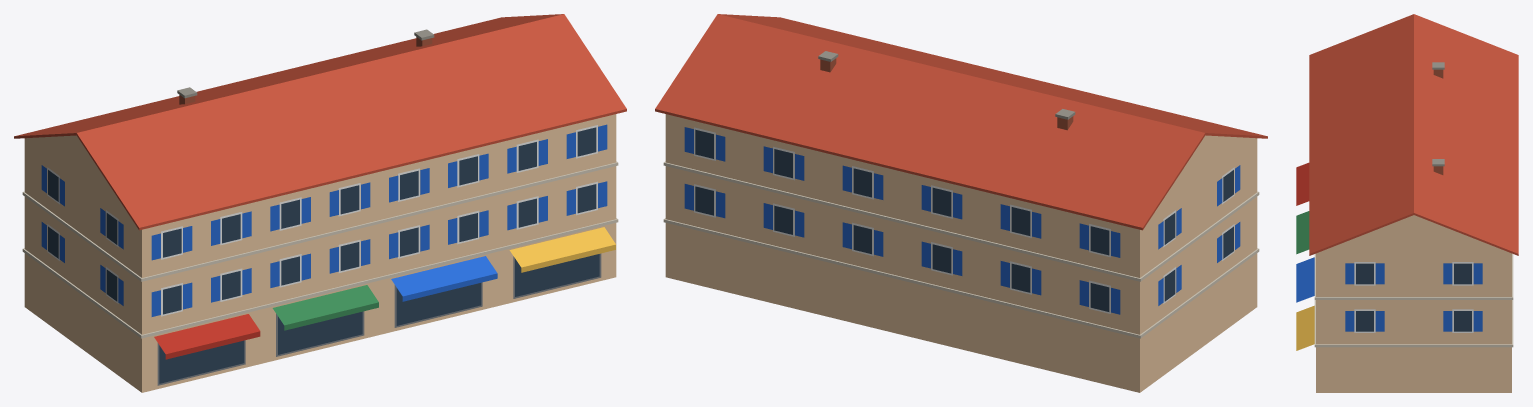
Rendered from boutiques_rue.glb.
3 views of the same model, side by side, from view 1: azimuth 30°, elevation 25°; view 2: azimuth 150°, elevation 25°; view 3: azimuth 270°, elevation 25° (orthographic). The views are drawn at different scales.
Parts seen in each view (by area): view 1: boutiques_rue; view 2: boutiques_rue; view 3: boutiques_rue.
Part boxes in pixels (x1,y1,x2,y2): boutiques_rue: [14, 14, 626, 392]; boutiques_rue: [655, 14, 1267, 392]; boutiques_rue: [1296, 14, 1518, 392].
Bounding box in the file's own units: 28.8 × 12.35 × 13.6.
Materials: 1 (1 with a texture image).
